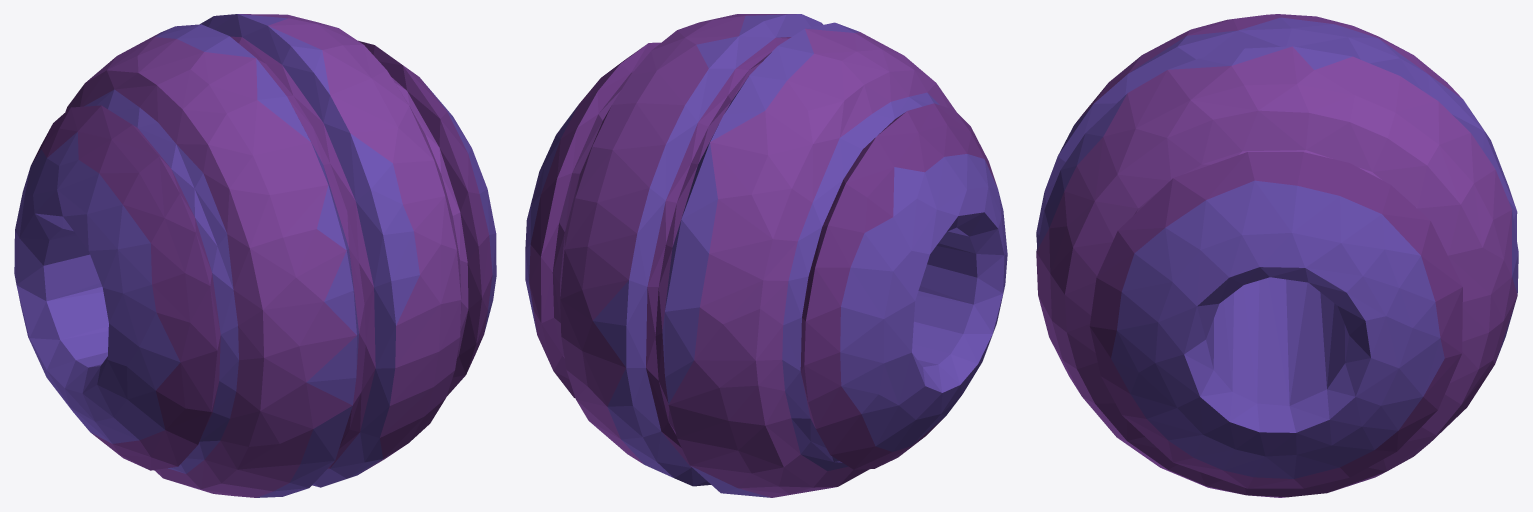
The model's file is planet-8.glb.
3 renders of one model, left to right at view 1: azimuth 30°, elevation 25°; view 2: azimuth 150°, elevation 25°; view 3: azimuth 270°, elevation 25°, orthographic.
Visible parts, largest first — view 1: Planet_8; view 2: Planet_8; view 3: Planet_8.
Part boxes in pixels (x1=…): Planet_8: x1=14, y1=14, x2=496, y2=497; Planet_8: x1=525, y1=14, x2=1007, y2=497; Planet_8: x1=1036, y1=14, x2=1518, y2=497.
Bounding box in the file's own units: 3.45 × 3.75 × 3.75.
